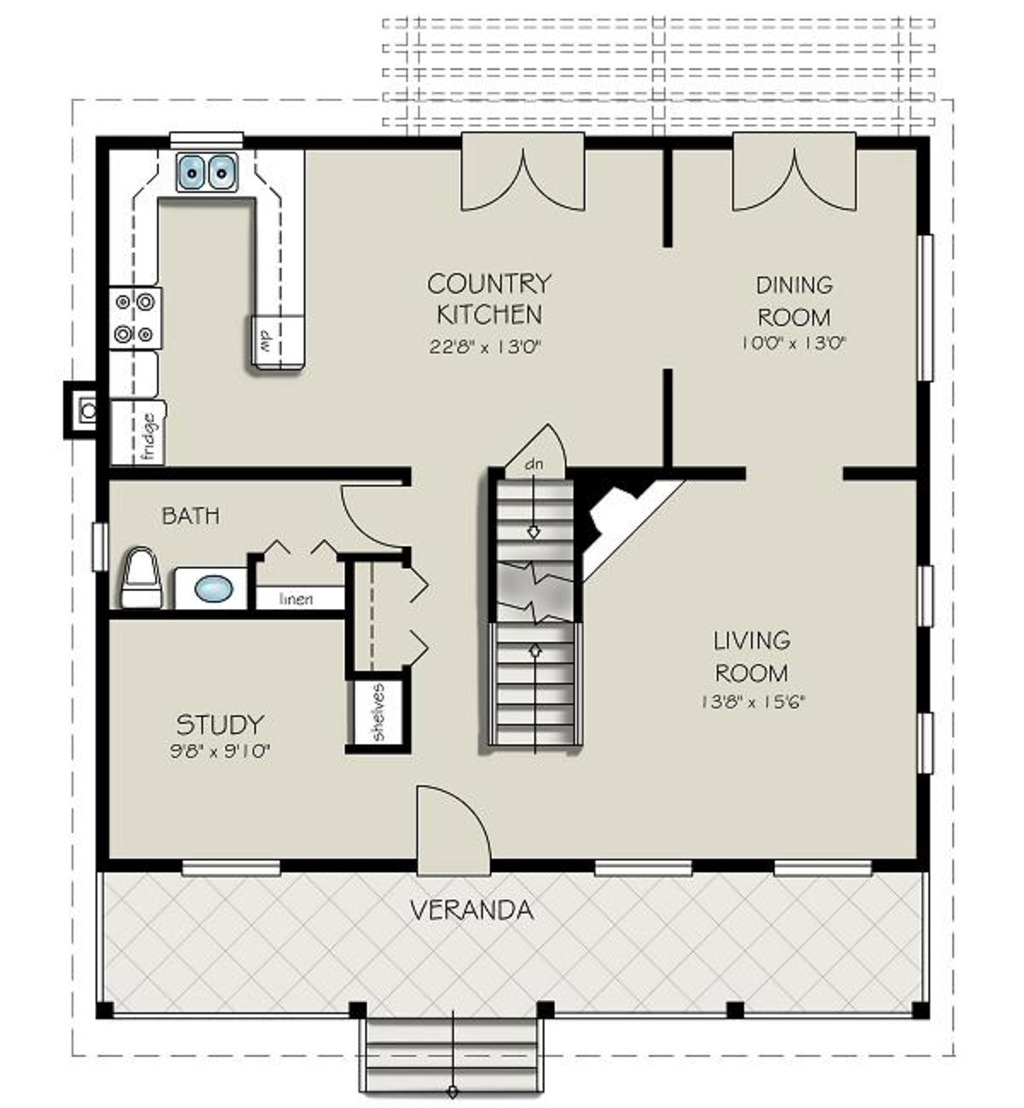door: (724, 117, 868, 219), (451, 123, 599, 216), (411, 785, 505, 889), (341, 475, 421, 553), (495, 412, 575, 475)
large_sink: (115, 545, 163, 606)
small_sink: (172, 560, 256, 612)
stairs: (492, 475, 589, 755), (355, 1006, 555, 1100)
twin_sink: (166, 143, 246, 200)
window: (902, 229, 944, 387), (761, 851, 873, 882), (582, 855, 699, 884), (177, 853, 280, 880), (85, 519, 121, 573), (914, 711, 938, 773), (916, 563, 939, 624)
